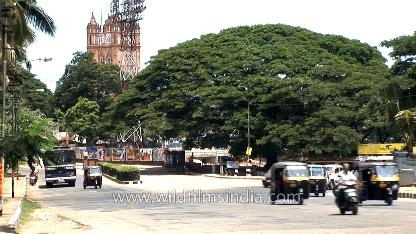auto-rikshaw: (268, 162, 314, 206), (356, 162, 402, 204), (305, 162, 329, 196), (82, 165, 104, 191)
bike: (332, 162, 362, 216)
priority: (42, 146, 80, 188)
